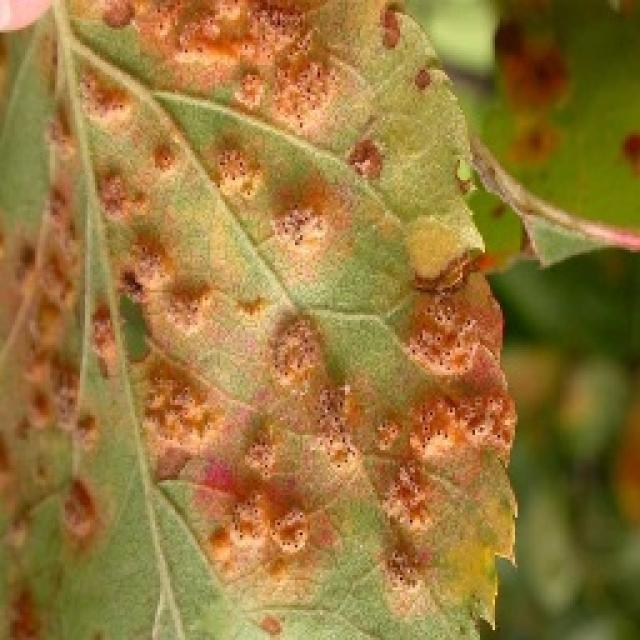Gymnosporangium_Rusts: (0, 0, 525, 638)
